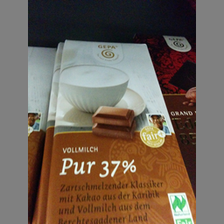chocolate: (46, 40, 193, 224)
